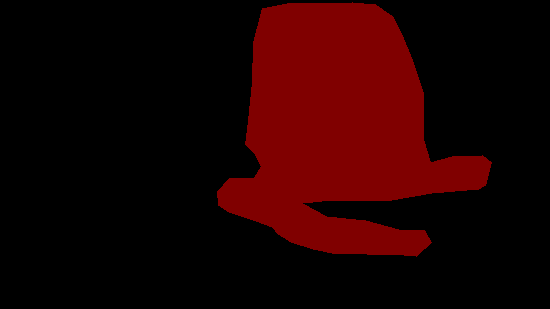fire: (217, 2, 491, 256)
